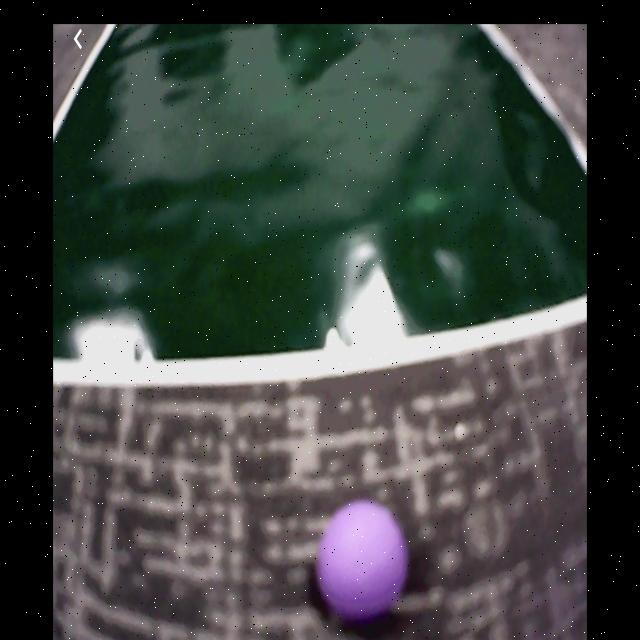ball: (315, 498, 410, 623)
